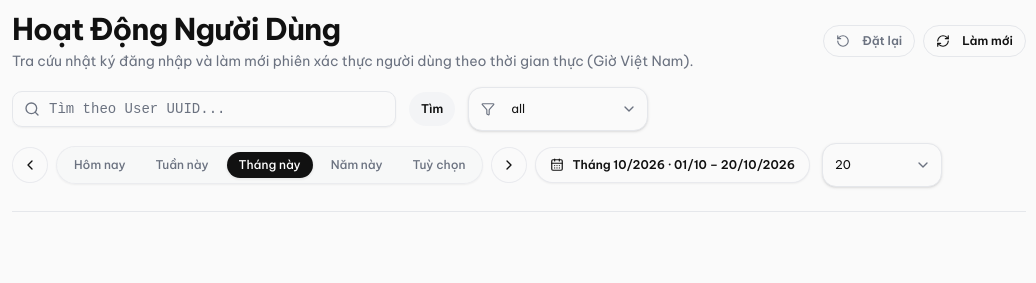
it: ActivityEventsToolbar › displays validation error when submitting invalid UUID
Type "invalid-uuid-string" into the field named "lọc theo mã người dùng uuid" at point(204, 109), box x1=12 y1=91 x2=396 y2=127
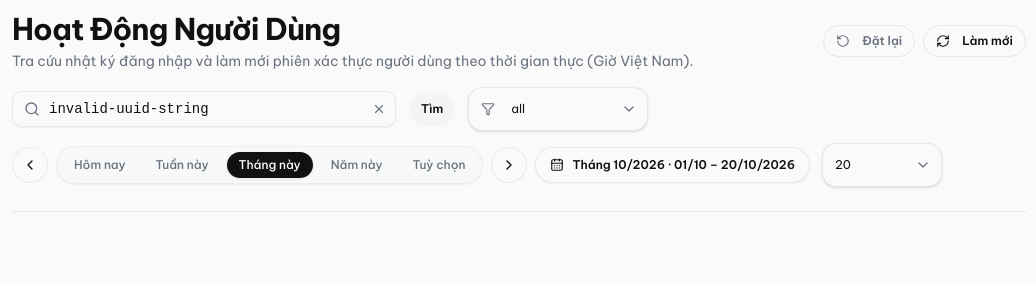
Click the button "Tìm" at point(432, 109), box x1=408 y1=91 x2=456 y2=127
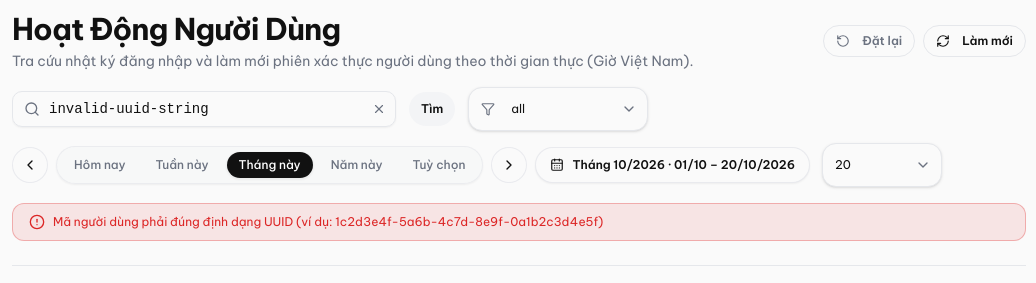
Now the text "Mã người dùng phải đúng định dạng UUID" is shown, box x1=53 y1=214 x2=603 y2=229
